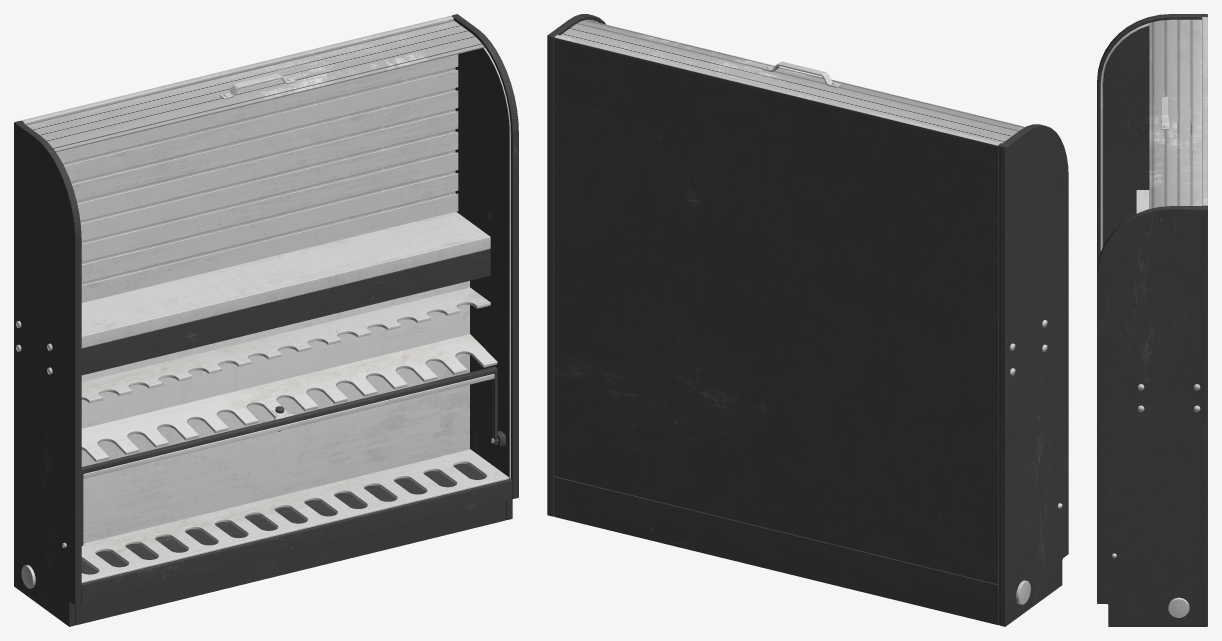
The model's file is SM_Gun_Display_01a.glb.
The picture shows the model from 3 angles, left to right: view 1: azimuth 30°, elevation 25°; view 2: azimuth 150°, elevation 25°; view 3: azimuth 270°, elevation 25°; orthographic projection. The views are drawn at different scales.
Parts seen in each view (by area): view 1: SM_Gun_Display_01a; view 2: SM_Gun_Display_01a; view 3: SM_Gun_Display_01a.
Boxes of the visible parts, x1,y1,x2,y2 form: SM_Gun_Display_01a: (14,14,518,626); SM_Gun_Display_01a: (547,14,1068,626); SM_Gun_Display_01a: (1097,14,1207,626).
Size of the model in its own units: 2.53 by 2.53 by 0.6.
Materials: 1 (1 with a texture image).
